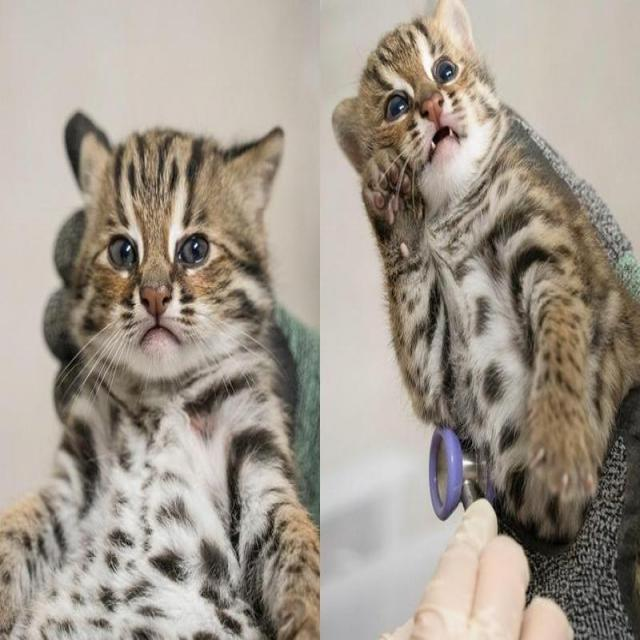leopard: (374, 37, 627, 503), (57, 101, 326, 420)
